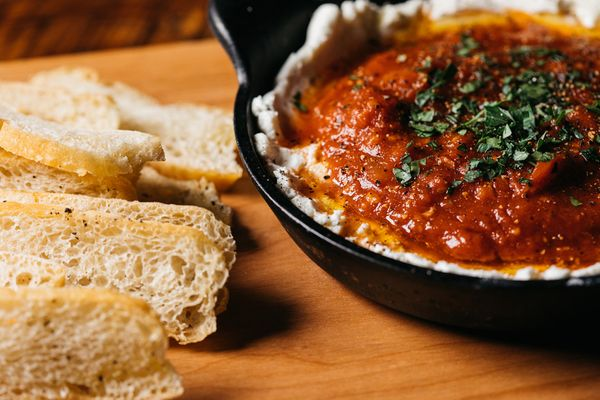sushi: (210, 0, 597, 364)
